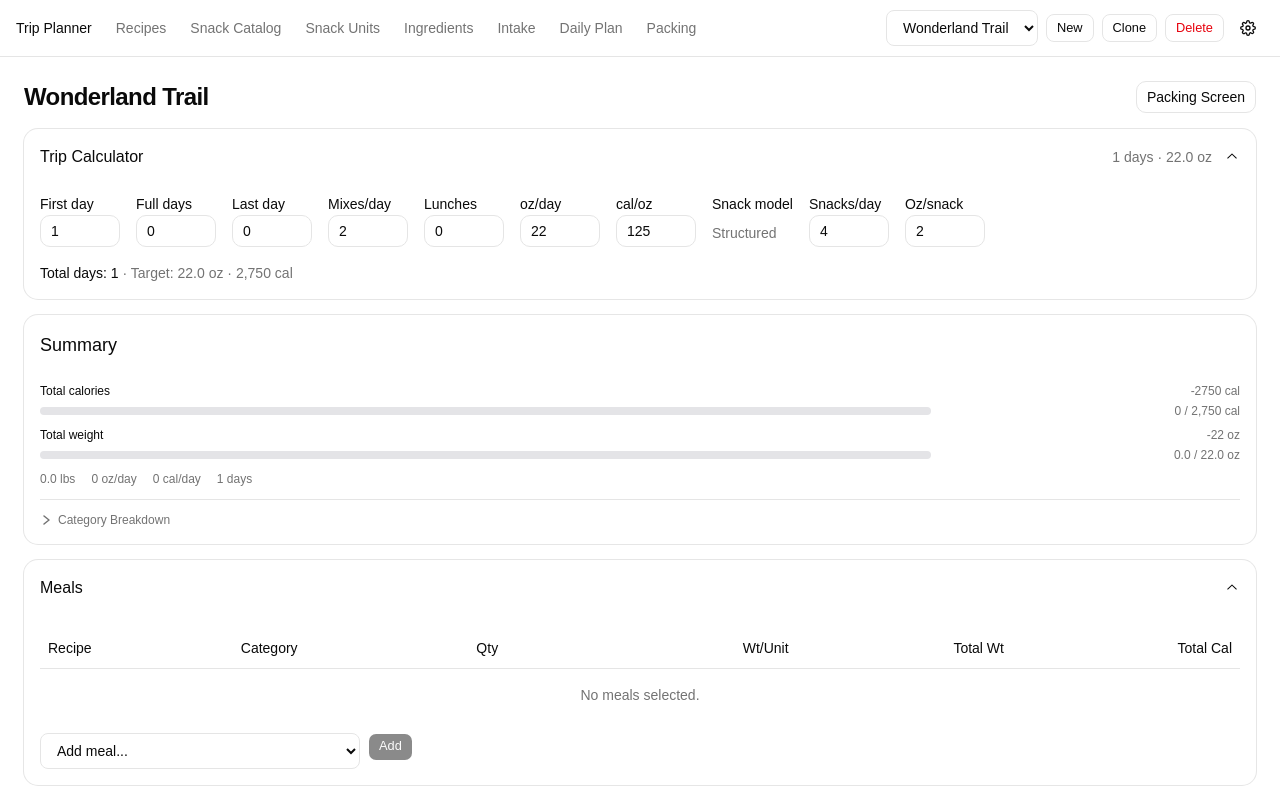
Test: TripCalculator › a failed debounced save surfaces a visible error
This screenshot has width=1280, height=800.
Replace the text in the number field labelled "First day" with "0.5" at (80, 231), box [40,215,120,247]
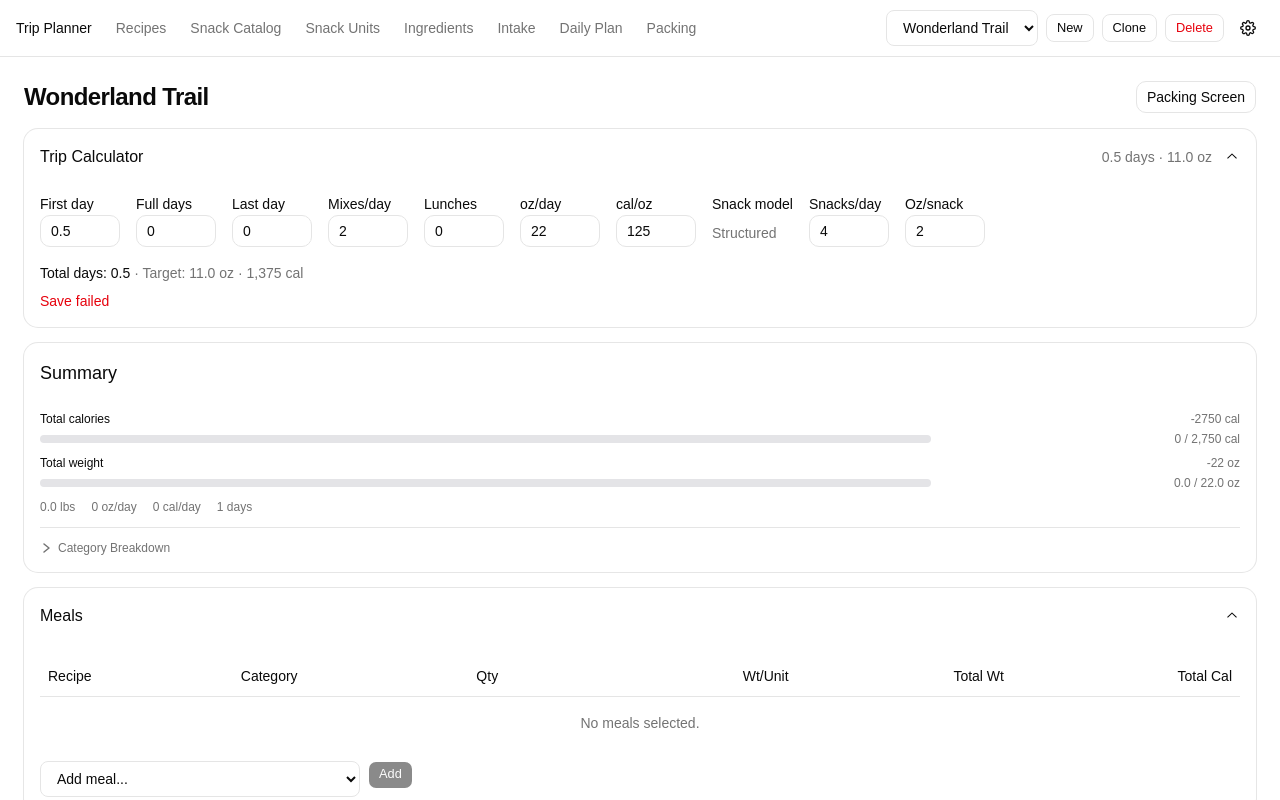
Now the text "Save failed" is shown, box [40,293,109,309]
